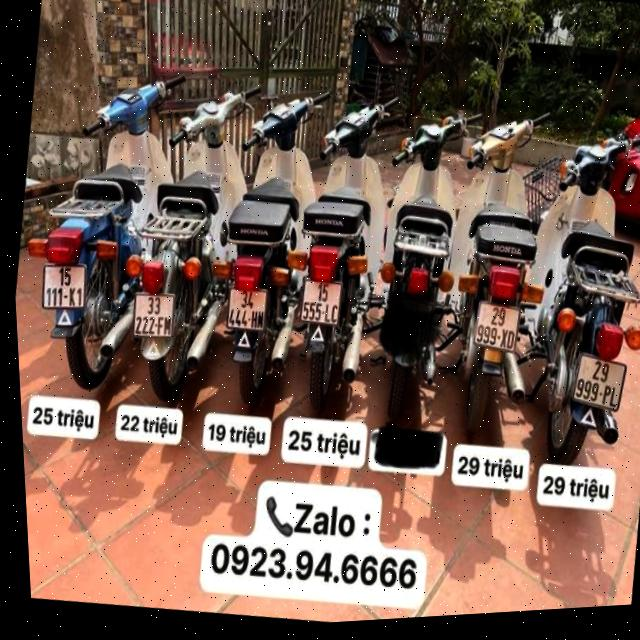car: (560, 77, 640, 263)
motorcycle: (3, 56, 203, 411), (97, 66, 281, 418), (265, 76, 417, 437), (192, 69, 348, 415), (352, 92, 499, 434), (435, 81, 571, 449), (507, 121, 640, 477)
plate: (566, 347, 632, 416), (34, 256, 96, 319), (467, 296, 527, 361), (127, 285, 184, 348), (218, 280, 275, 340), (293, 277, 349, 334)
